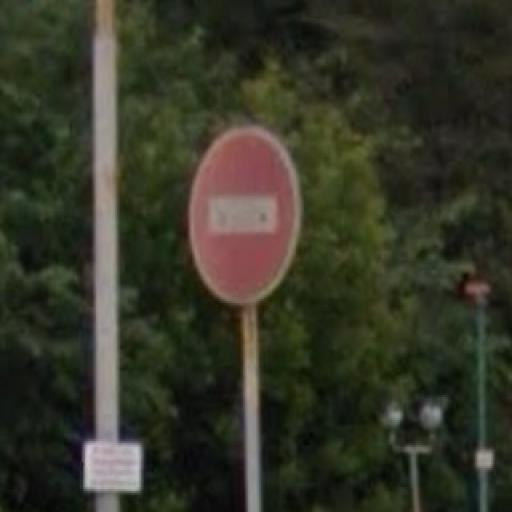traffic_sign: (188, 126, 305, 308)
